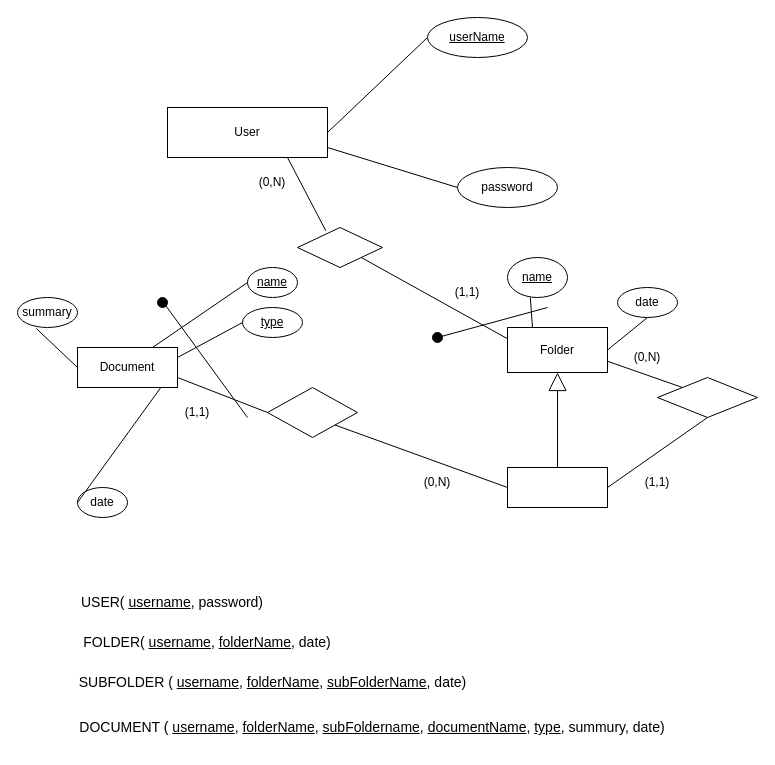
Some shapes in this 775 by 765 pixel diagram are drawn without their labels. The box of each missing label's shape, as (x1, y1, x2, y2) in pixels:
Containment DocSub: (266, 386, 358, 438)
Containment FoldSub: (656, 376, 758, 418)
ownership: (296, 226, 382, 268)
SubFolder: (506, 466, 608, 508)
